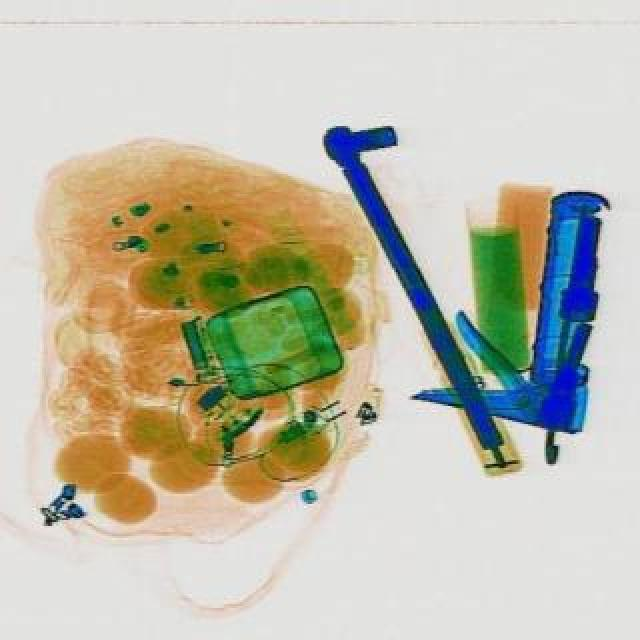knife: (402, 174, 614, 434)
